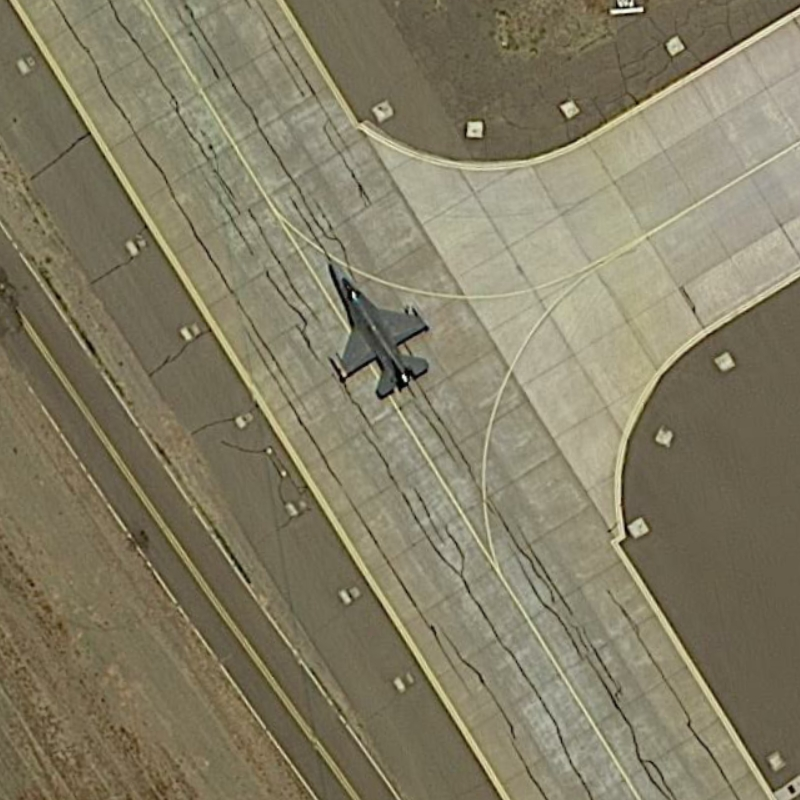A5: (321, 253, 438, 403)
